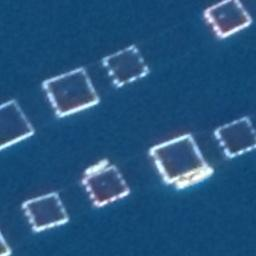square_solid: (39, 64, 105, 122), (148, 128, 211, 186), (77, 159, 136, 214), (17, 188, 76, 239), (98, 41, 155, 91), (1, 92, 39, 158), (210, 113, 256, 163), (201, 1, 255, 43)
